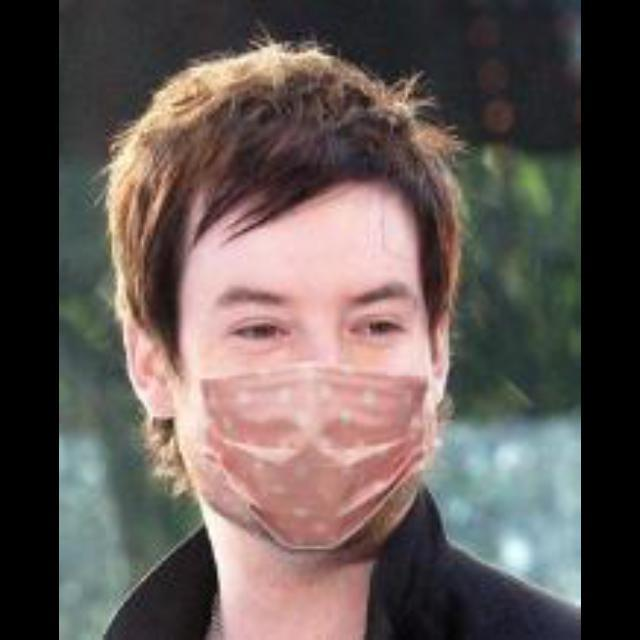suspicion: (128, 73, 466, 530)
